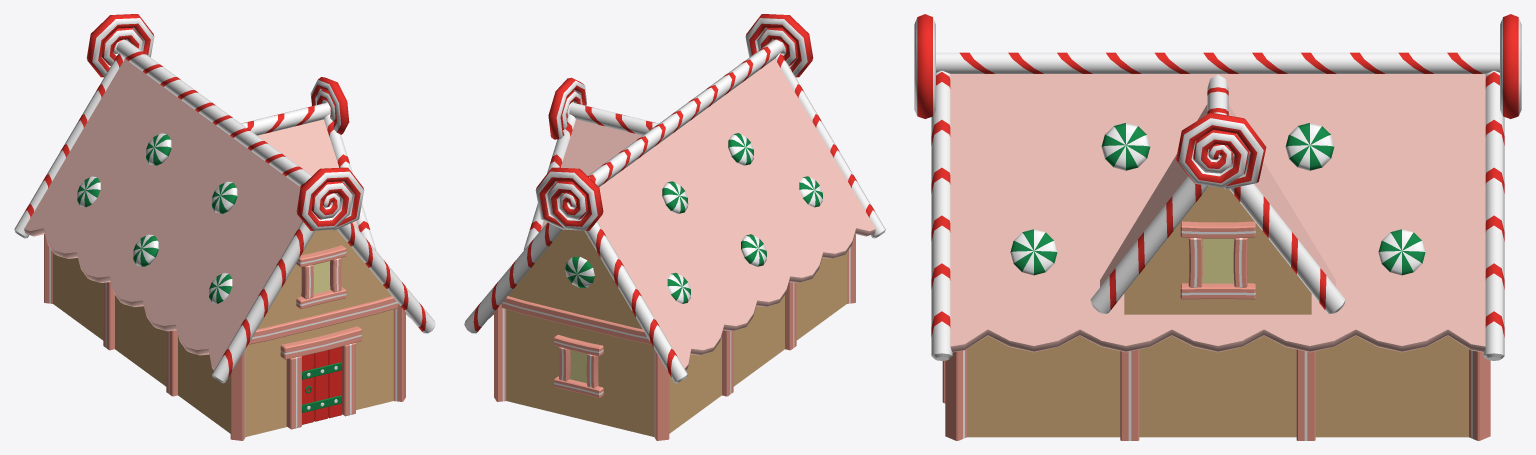
The model's file is House_3.fbx.
3 renders of one model, left to right at view 1: azimuth 30°, elevation 25°; view 2: azimuth 150°, elevation 25°; view 3: azimuth 270°, elevation 25°, orthographic. The views are drawn at different scales.
Parts seen in each view (by area): view 1: House_3; view 2: House_3; view 3: House_3.
Part boxes in pixels (box(x1,y1,x2,y2)): House_3: box(14, 14, 435, 440); House_3: box(464, 14, 885, 440); House_3: box(914, 14, 1521, 440).
Bounding box in the file's own units: 7.41 × 8.26 × 12.54.
